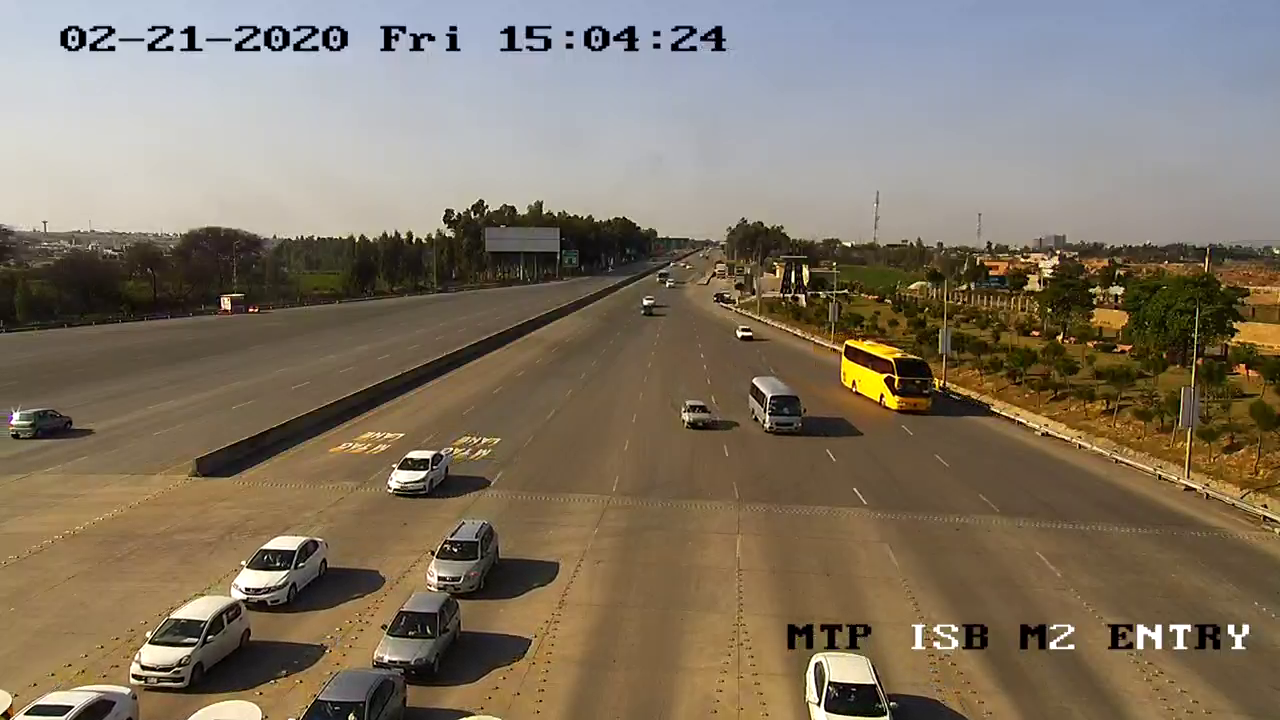f1: (114, 589, 257, 698), (222, 528, 340, 614), (365, 592, 468, 680), (419, 512, 505, 600), (379, 444, 457, 502), (672, 391, 719, 441)
f3: (744, 367, 810, 447)
f4: (832, 332, 948, 421)
